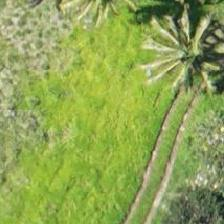coconut_tree: (138, 10, 223, 100)
